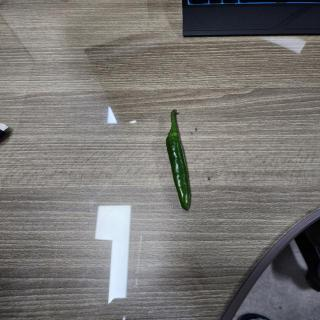Cabai Hijau: (156, 111, 204, 216)
